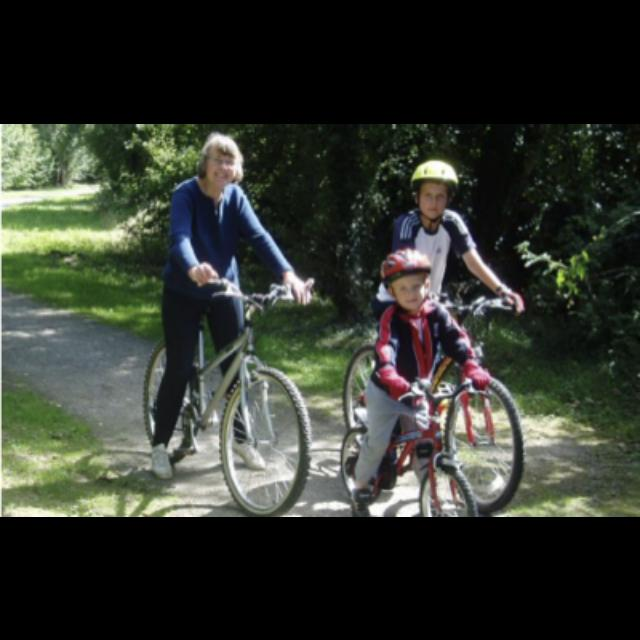With Helmet: (376, 248, 436, 308), (410, 154, 458, 216)
Without Helmet: (195, 129, 243, 193)
